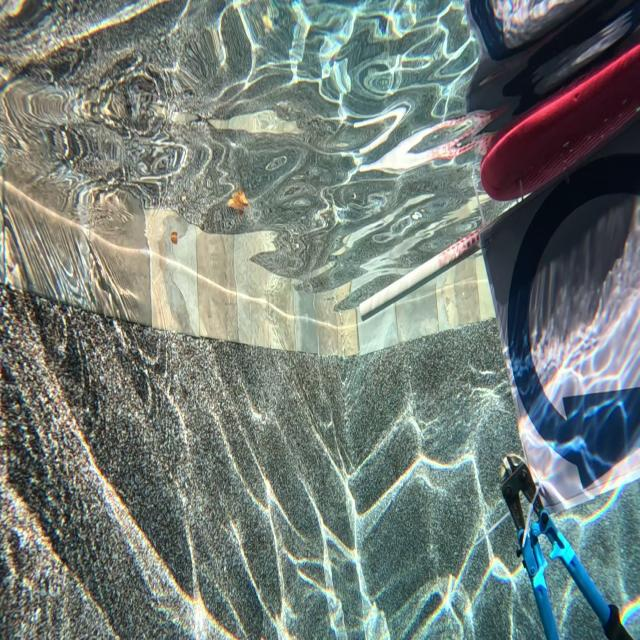blue_side: (454, 111, 640, 504)
